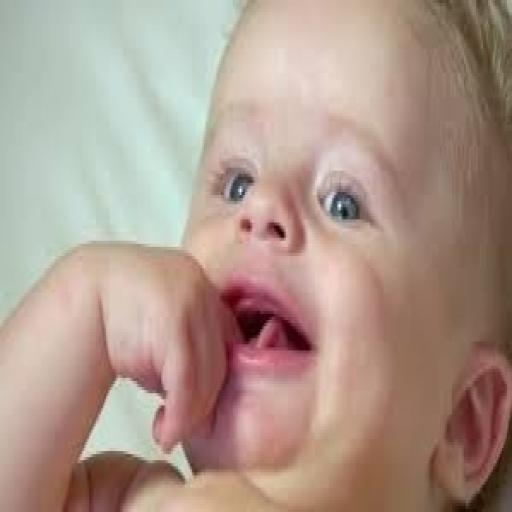laughing: (3, 3, 507, 506)
